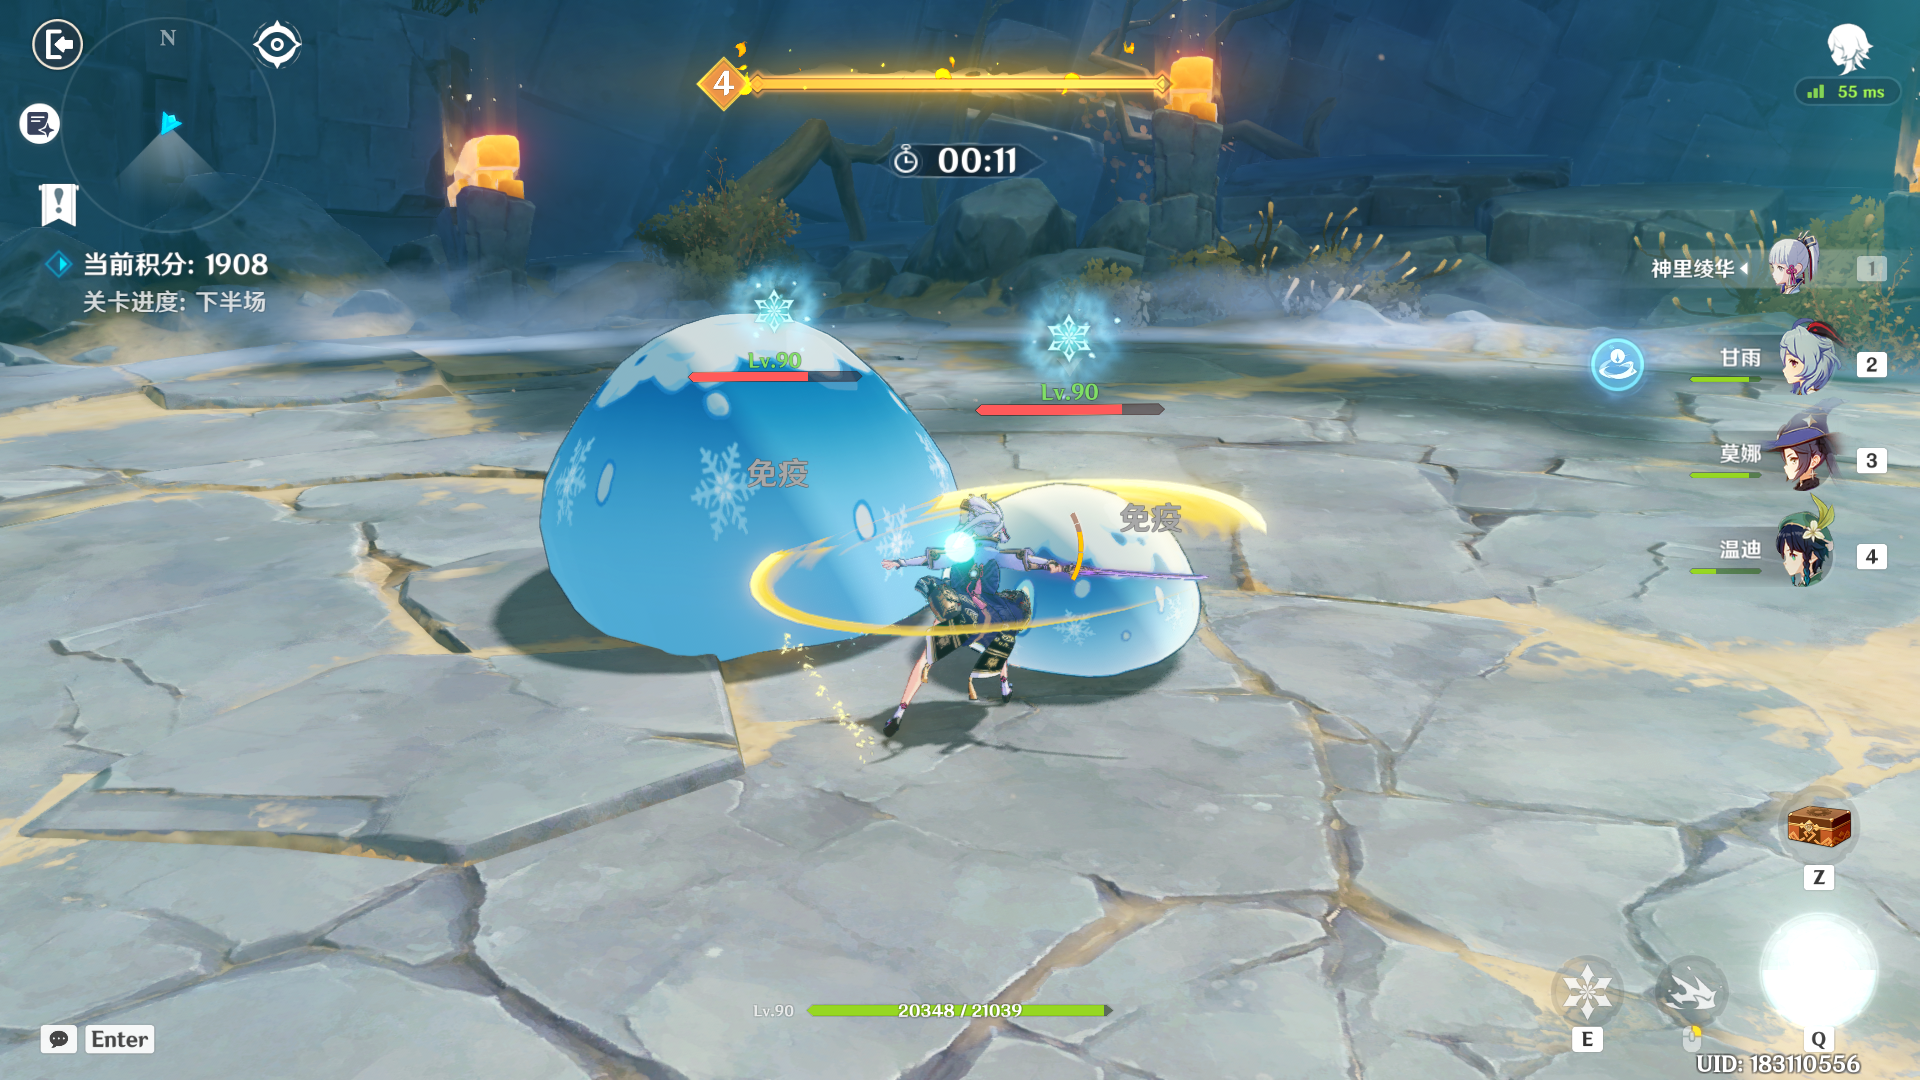character: (851, 425, 1091, 794)
slime: (530, 266, 963, 723), (930, 438, 1222, 705)
